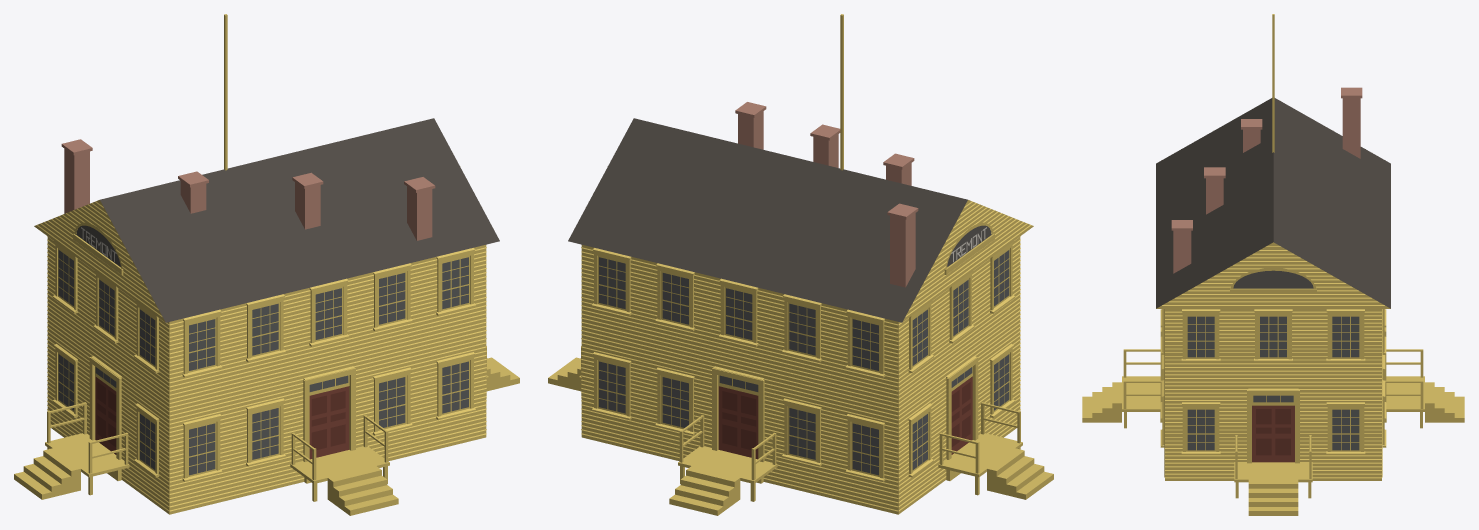
Rendered from tremont_house_1__frame_1833.glb.
3 views of the same model, side by side, from view 1: azimuth 30°, elevation 25°; view 2: azimuth 150°, elevation 25°; view 3: azimuth 270°, elevation 25° (orthographic). The views are drawn at different scales.
Visible parts, largest first — view 1: tremont_house_1__frame_1833; view 2: tremont_house_1__frame_1833; view 3: tremont_house_1__frame_1833.
Part boxes in pixels (x1=…): tremont_house_1__frame_1833: x1=14, y1=14, x2=519, y2=515; tremont_house_1__frame_1833: x1=548, y1=14, x2=1053, y2=515; tremont_house_1__frame_1833: x1=1082, y1=14, x2=1464, y2=515.
Size of the model in its own units: 13.78 by 11.76 by 10.74.
